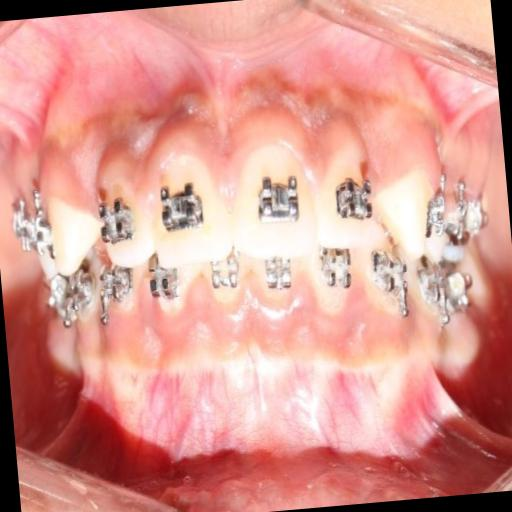correct_brace: (253, 169, 305, 230), (153, 183, 212, 234), (334, 173, 376, 225), (98, 196, 134, 247), (30, 210, 62, 262), (424, 190, 446, 236)
incorrect_brace: (315, 146, 382, 249), (100, 182, 158, 270)
